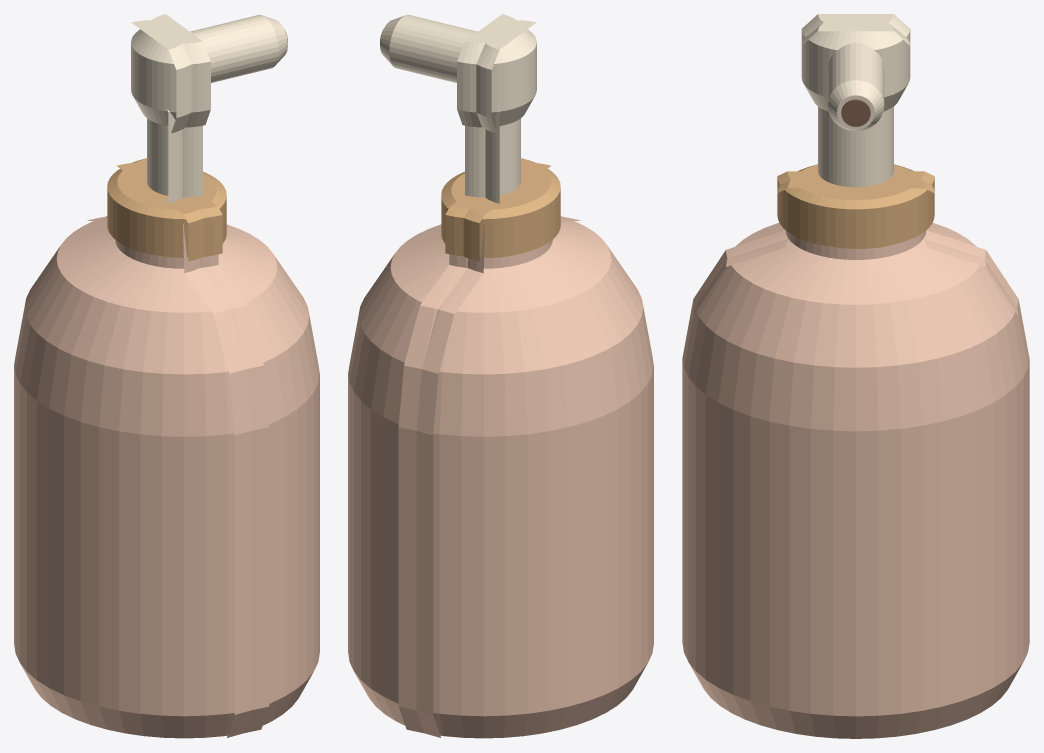
The model's file is spray-cut.glb.
The picture shows the model from 3 angles, left to right: view 1: azimuth 30°, elevation 25°; view 2: azimuth 150°, elevation 25°; view 3: azimuth 270°, elevation 25°; orthographic projection.
Parts seen in each view (by area): view 1: spray_Cosmetic Spray Bottle_f948e0_right, spray_Cosmetic Spray Bottle_f948e0_left, spray_Cosmetic Spray Bottle_dfbf1c_right, spray_Cosmetic Spray Bottle_efeb1a_right, spray_Cosmetic Spray Bottle_cf8a74_left, spray_Cosmetic Spray Bottle_2d4eb8_right, spray_Cosmetic Spray Bottle_dfbf1c_left, spray_Cosmetic Spray Bottle_efeb1a_left, spray_Cosmetic Spray Bottle_2d4eb8_left; view 2: spray_Cosmetic Spray Bottle_f948e0_right, spray_Cosmetic Spray Bottle_f948e0_left, spray_Cosmetic Spray Bottle_dfbf1c_right, spray_Cosmetic Spray Bottle_efeb1a_right, spray_Cosmetic Spray Bottle_cf8a74_left, spray_Cosmetic Spray Bottle_2d4eb8_right, spray_Cosmetic Spray Bottle_dfbf1c_left, spray_Cosmetic Spray Bottle_efeb1a_left, spray_Cosmetic Spray Bottle_2d4eb8_left; view 3: spray_Cosmetic Spray Bottle_f948e0_left, spray_Cosmetic Spray Bottle_dfbf1c_left, spray_Cosmetic Spray Bottle_efeb1a_left, spray_Cosmetic Spray Bottle_2d4eb8_left, spray_Cosmetic Spray Bottle_cf8a74_left, spray_Cosmetic Spray Bottle_f948e0_right, spray_Cosmetic Spray Bottle_efeb1a_right, spray_Cosmetic Spray Bottle_dfbf1c_right, spray_Cosmetic Spray Bottle_89dfaf_left.
Boxes of the visible parts, box(x1,y1,x2,y2) form: spray_Cosmetic Spray Bottle_f948e0_right: box(14, 216, 269, 738); spray_Cosmetic Spray Bottle_f948e0_left: box(87, 217, 319, 737); spray_Cosmetic Spray Bottle_dfbf1c_right: box(107, 158, 222, 258); spray_Cosmetic Spray Bottle_efeb1a_right: box(131, 14, 210, 127); spray_Cosmetic Spray Bottle_cf8a74_left: box(190, 14, 287, 82); spray_Cosmetic Spray Bottle_2d4eb8_right: box(147, 118, 202, 197); spray_Cosmetic Spray Bottle_dfbf1c_left: box(116, 162, 226, 261); spray_Cosmetic Spray Bottle_efeb1a_left: box(131, 20, 191, 133); spray_Cosmetic Spray Bottle_2d4eb8_left: box(167, 109, 182, 203); spray_Cosmetic Spray Bottle_f948e0_right: box(398, 216, 653, 738); spray_Cosmetic Spray Bottle_f948e0_left: box(348, 217, 580, 737); spray_Cosmetic Spray Bottle_dfbf1c_right: box(445, 158, 560, 258); spray_Cosmetic Spray Bottle_efeb1a_right: box(457, 14, 536, 127); spray_Cosmetic Spray Bottle_cf8a74_left: box(380, 14, 477, 82); spray_Cosmetic Spray Bottle_2d4eb8_right: box(465, 118, 520, 197); spray_Cosmetic Spray Bottle_dfbf1c_left: box(441, 162, 551, 261); spray_Cosmetic Spray Bottle_efeb1a_left: box(476, 20, 536, 133); spray_Cosmetic Spray Bottle_2d4eb8_left: box(485, 109, 500, 203); spray_Cosmetic Spray Bottle_f948e0_left: box(682, 230, 1029, 738); spray_Cosmetic Spray Bottle_dfbf1c_left: box(777, 171, 934, 249); spray_Cosmetic Spray Bottle_efeb1a_left: box(801, 14, 910, 111); spray_Cosmetic Spray Bottle_2d4eb8_left: box(818, 106, 893, 187); spray_Cosmetic Spray Bottle_cf8a74_left: box(827, 43, 884, 131); spray_Cosmetic Spray Bottle_f948e0_right: box(683, 223, 1028, 369); spray_Cosmetic Spray Bottle_efeb1a_right: box(802, 15, 909, 45); spray_Cosmetic Spray Bottle_dfbf1c_right: box(777, 164, 934, 192); spray_Cosmetic Spray Bottle_89dfaf_left: box(841, 99, 870, 126).
Size of the model in its own units: 0.565 by 1.36 by 0.64.
